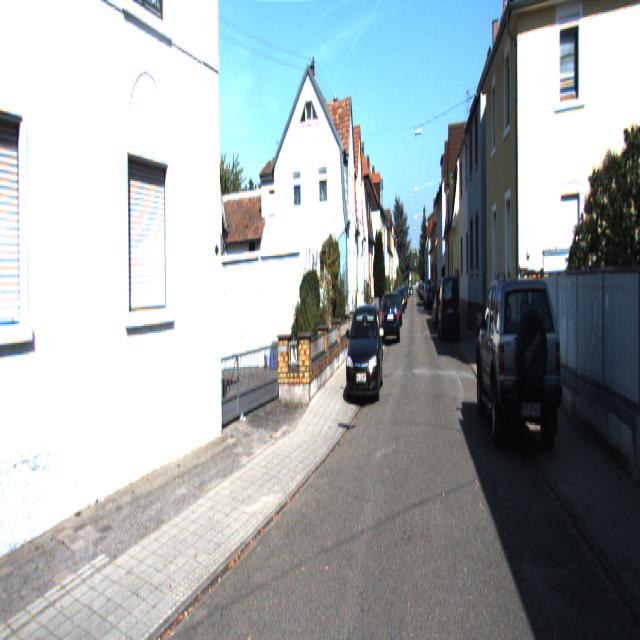Car: (474, 264, 562, 461), (346, 298, 382, 398), (440, 275, 462, 345), (382, 290, 400, 345)
